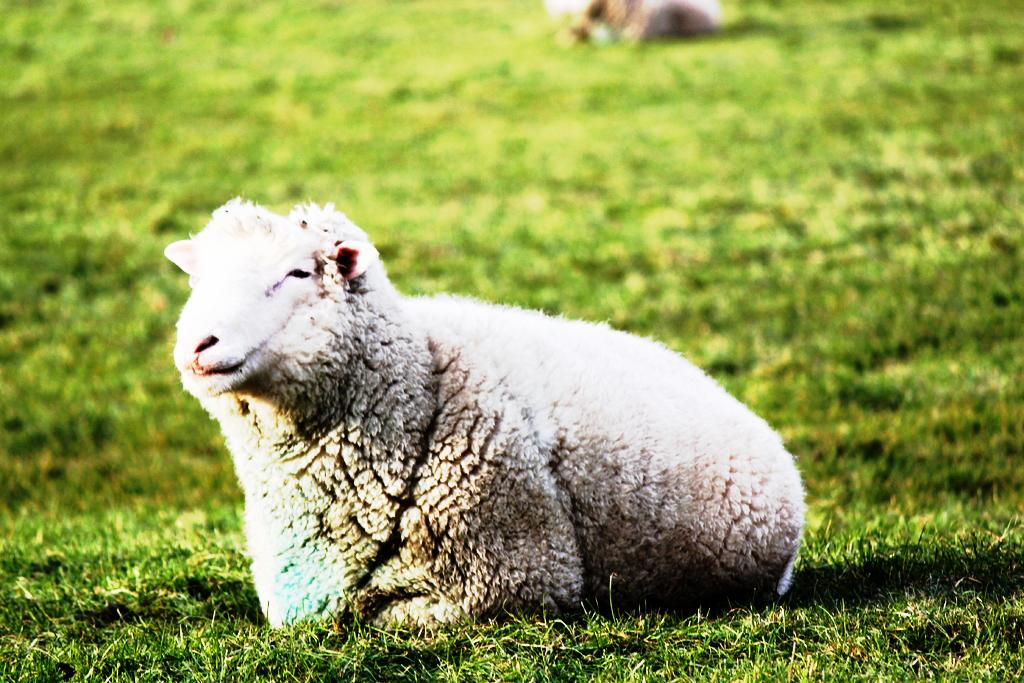Sheep: (165, 197, 806, 644)
